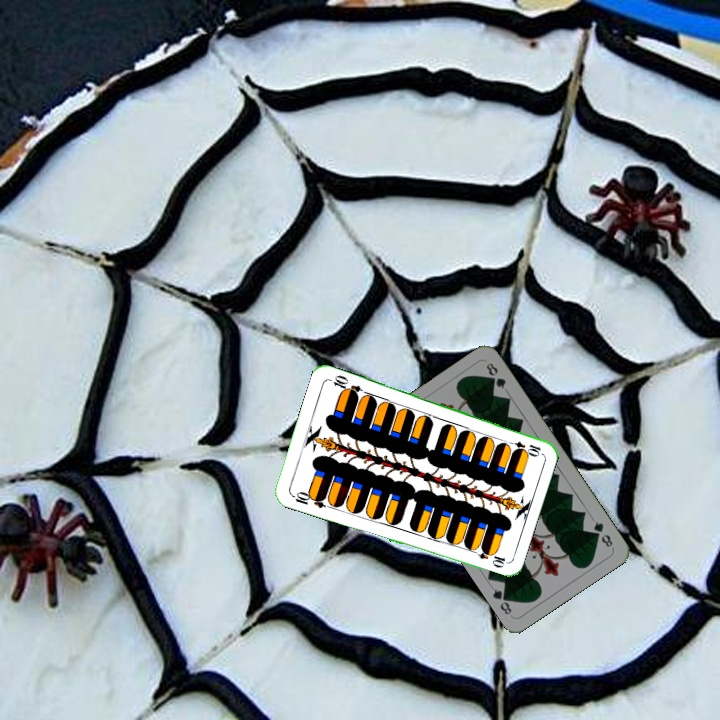E10: (288, 487, 328, 511), (503, 436, 543, 457)
G8: (589, 517, 616, 551)
